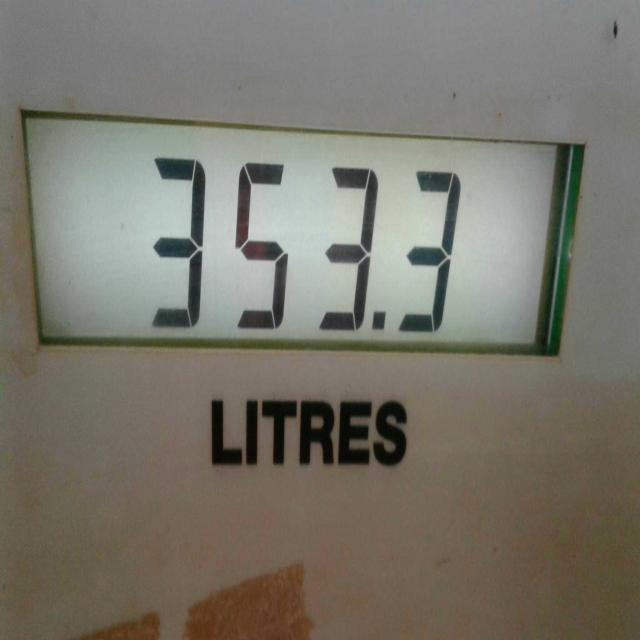.: (370, 302, 391, 348)
3: (135, 147, 217, 349), (404, 164, 472, 341), (317, 170, 375, 338)
5: (232, 161, 308, 352)
